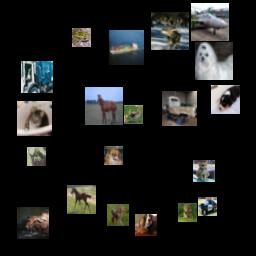airplane: (191, 3, 229, 41)
automobile: (198, 197, 217, 216)
bird: (124, 105, 143, 124)
cat: (17, 101, 52, 136), (193, 160, 215, 182)
deer: (151, 12, 189, 50), (17, 207, 49, 239), (107, 204, 129, 226), (27, 147, 46, 166), (178, 203, 197, 222)
dog: (195, 42, 233, 80), (211, 85, 240, 114), (135, 214, 157, 236), (104, 146, 123, 165)
frog: (72, 28, 91, 47)
ship: (109, 30, 144, 65)
truck: (162, 91, 197, 126), (21, 61, 53, 93)
